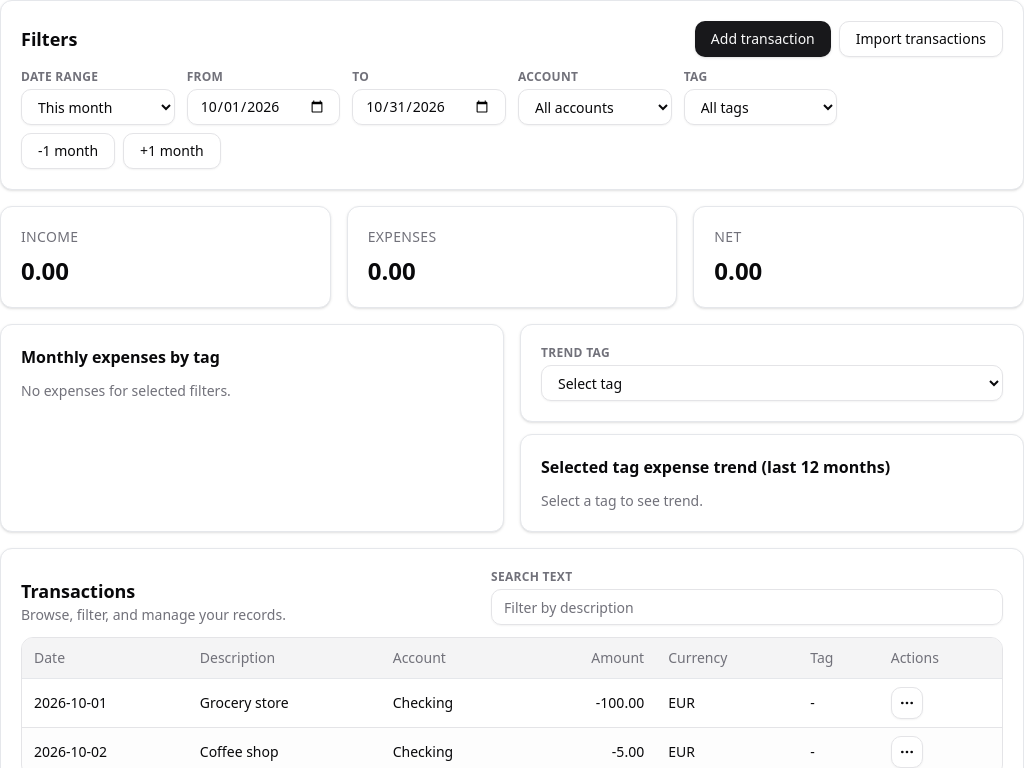
TransactionsPage row actions menu › opens edit from the last row actions menu
Click the button named "Open actions menu" in the row of "2026-10-02" at (907, 752), box [891, 736, 923, 767]
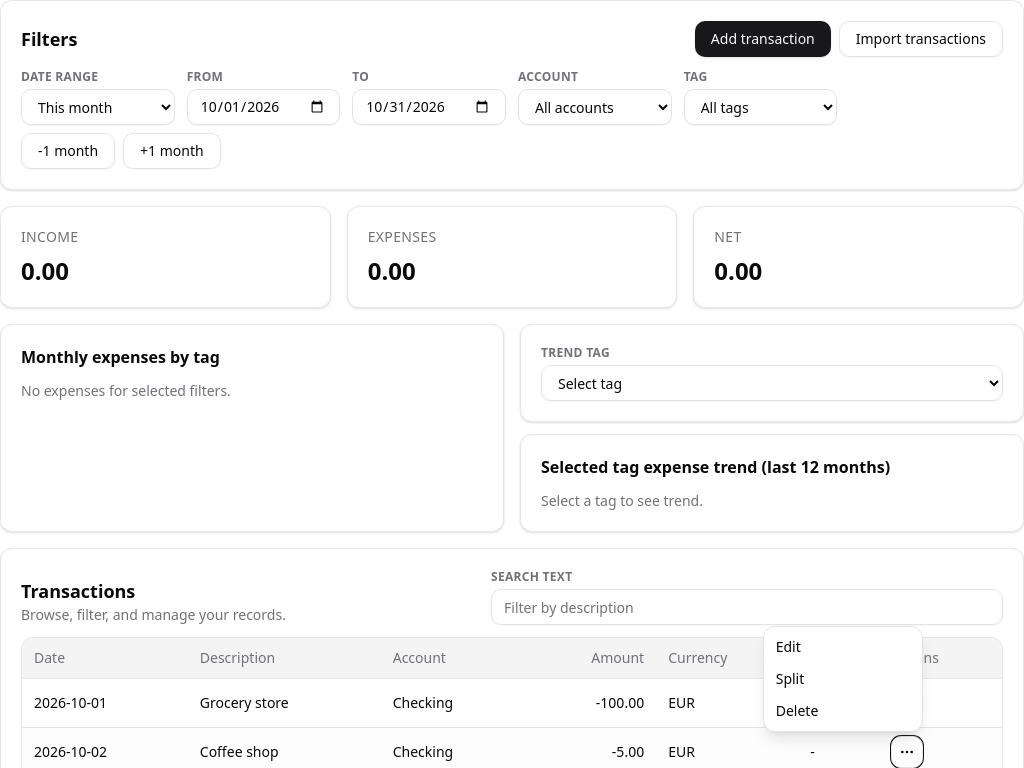
Click the button "Edit" at (843, 646), box [768, 630, 918, 662]
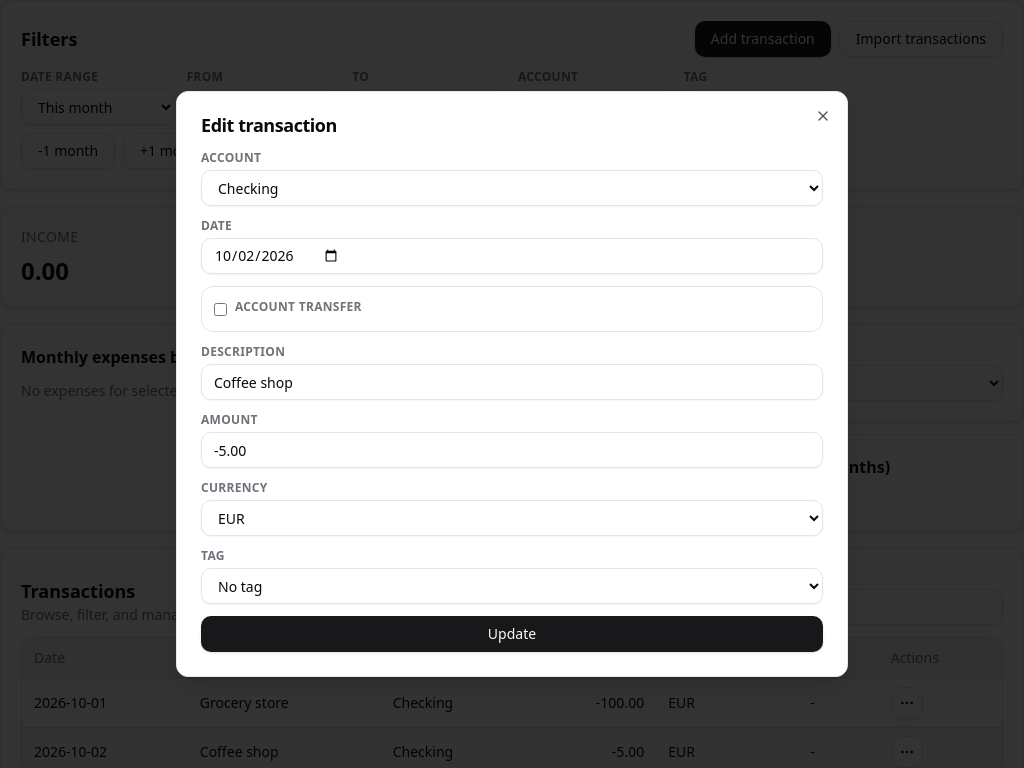
Now the dialog shows "Edit transaction", box [201, 113, 337, 137]
Now the 1st field showing "Coffee shop" is shown, box [201, 364, 823, 400]
